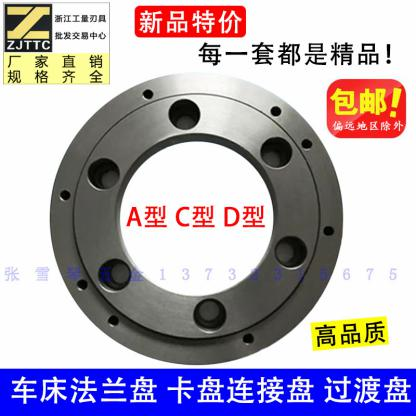FOD: (44, 65, 348, 367)
